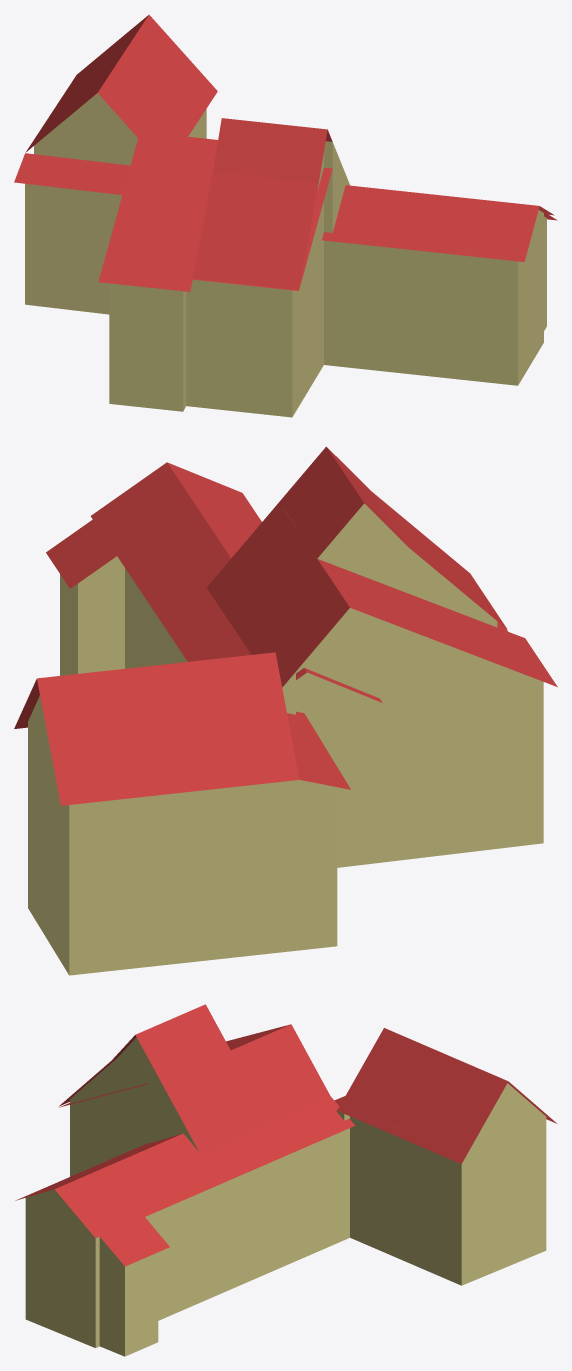
3 renders of one model, top to bottom at view 1: azimuth 30°, elevation 25°; view 2: azimuth 150°, elevation 25°; view 3: azimuth 270°, elevation 25°, orthographic. The views are drawn at different scales.
Size of the model in its own units: 27.48 by 32.65 by 14.96.
